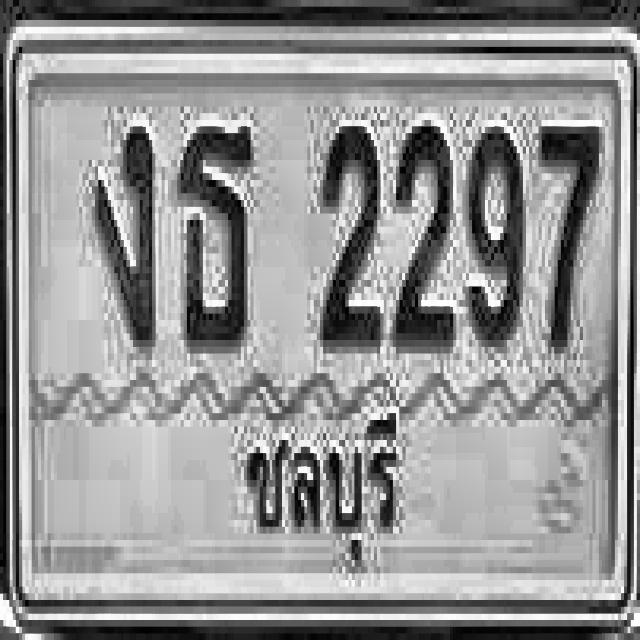license-plate: (0, 13, 640, 627)
